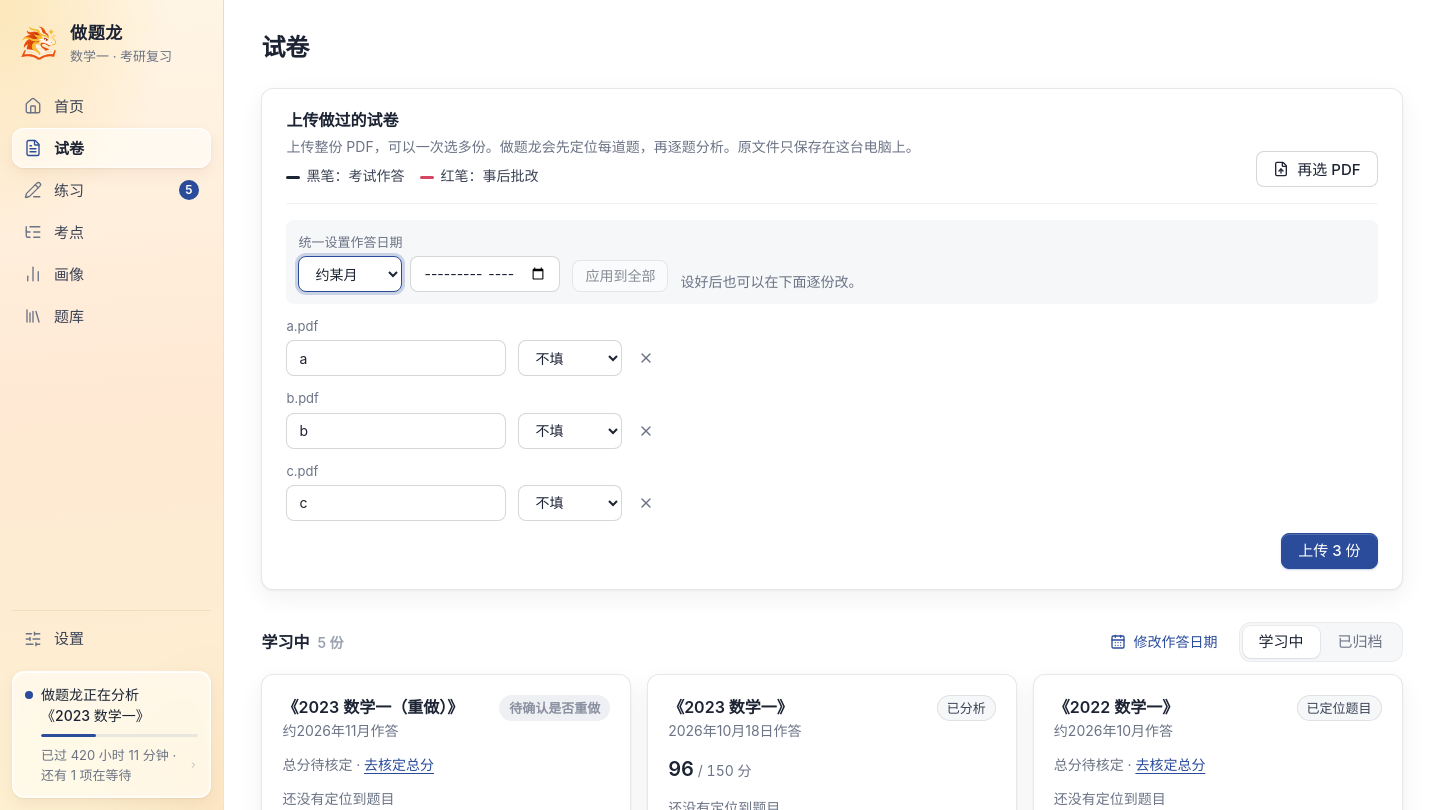
Test: lets a batch share one date, then changes a single paper before uploading
The width and height of the screenshot is (1440, 810).
Earlier steps of the test are not shown.
Type "2026-09" into the field named "统一设置作答日期：大约哪个月" at (485, 274), box [410,256,560,292]
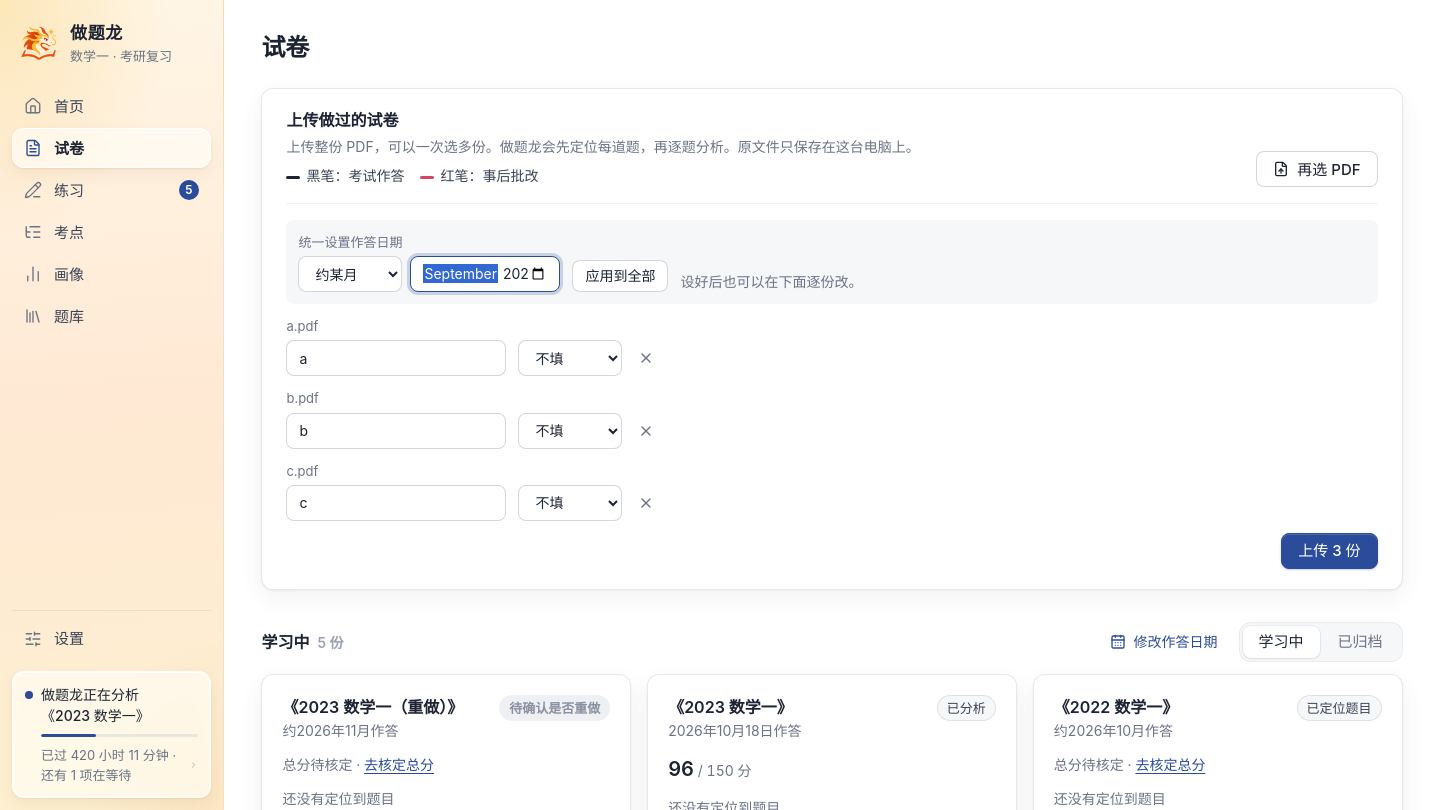
Click the button "应用到全部" at (620, 276), box [572,260,668,292]
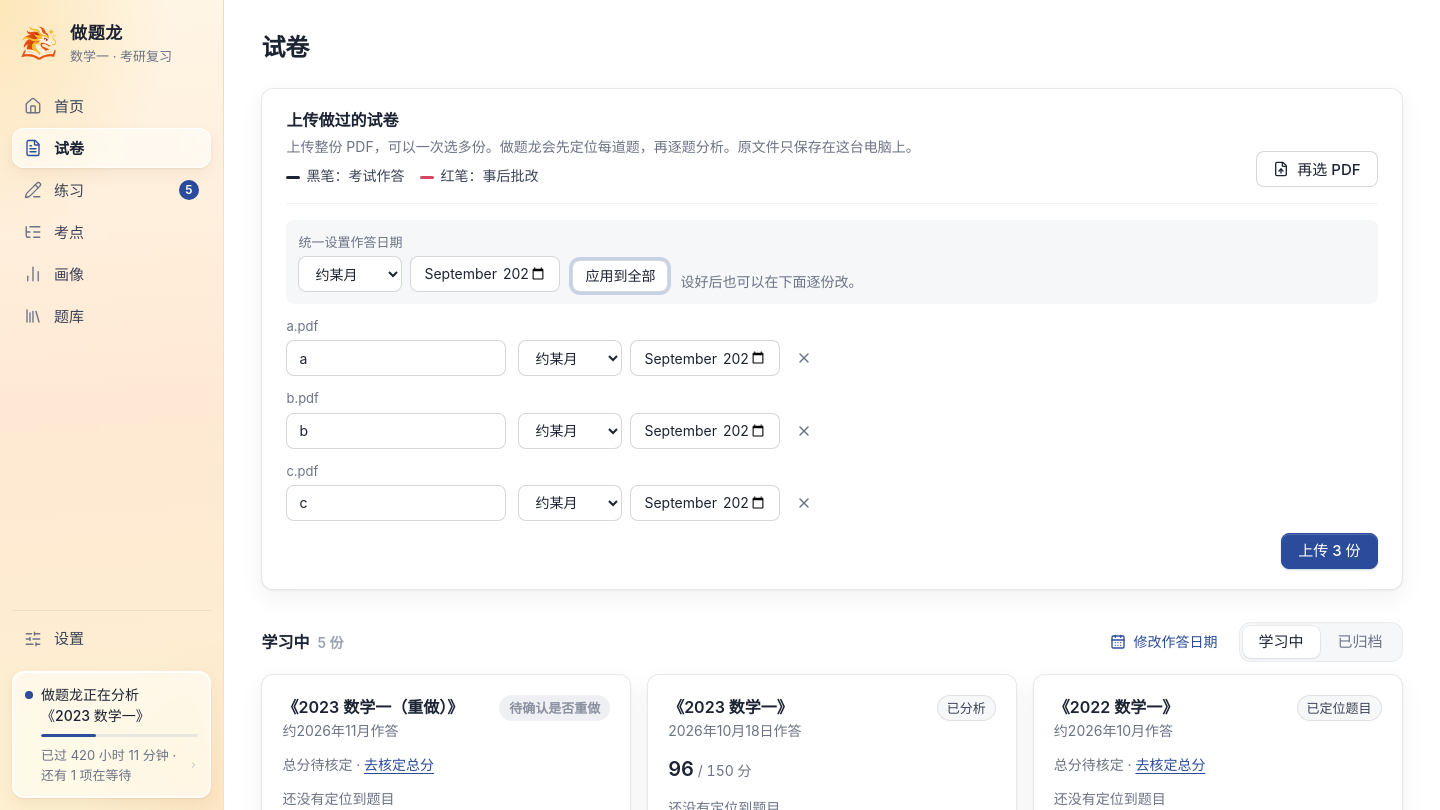
Select "记不清" in the dropdown named "b.pdf 的作答日期" below "b.pdf" at (570, 431), box [518,413,622,449]
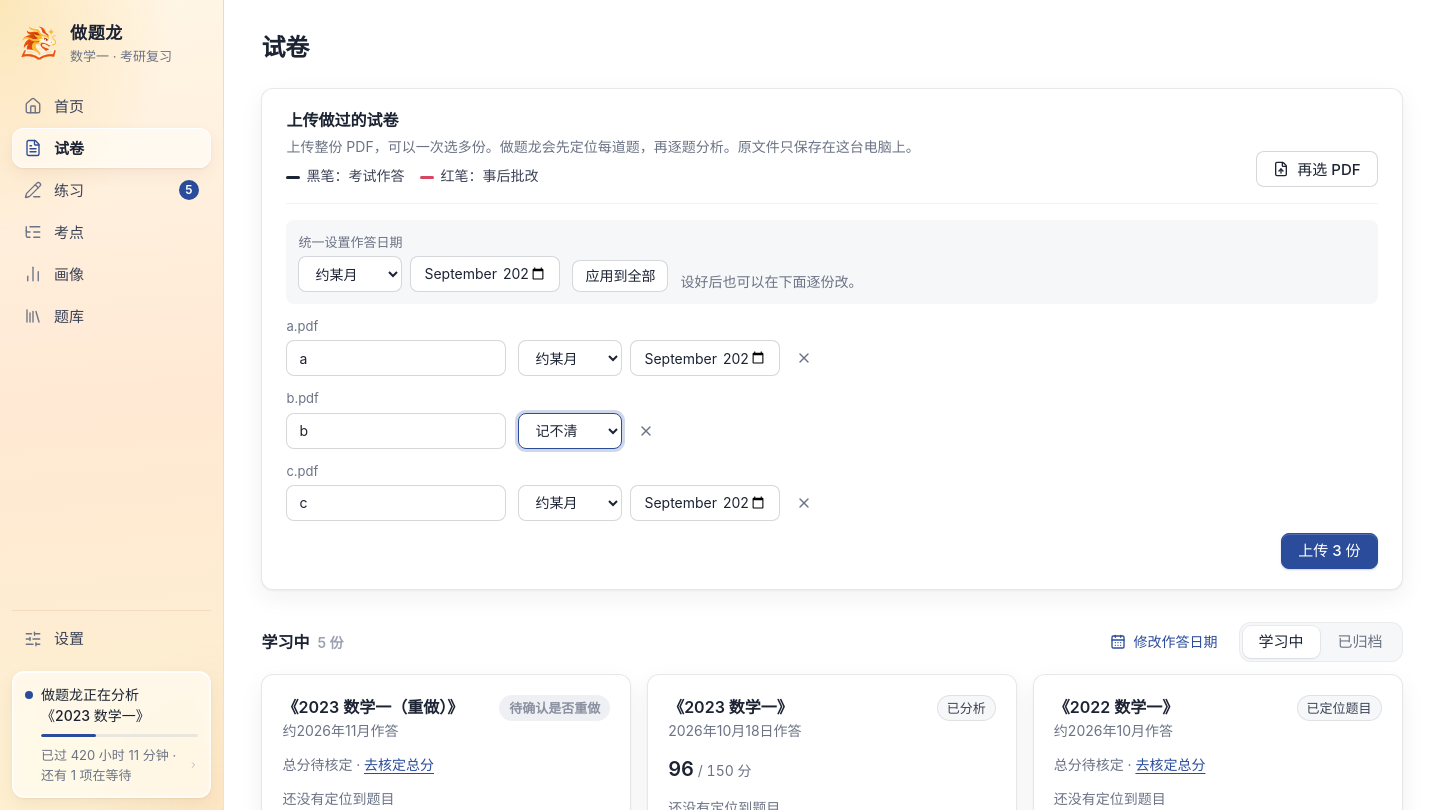
Select "具体日期" in the dropdown named "c.pdf 的作答日期" below "c.pdf" at (570, 503), box [518,485,622,521]
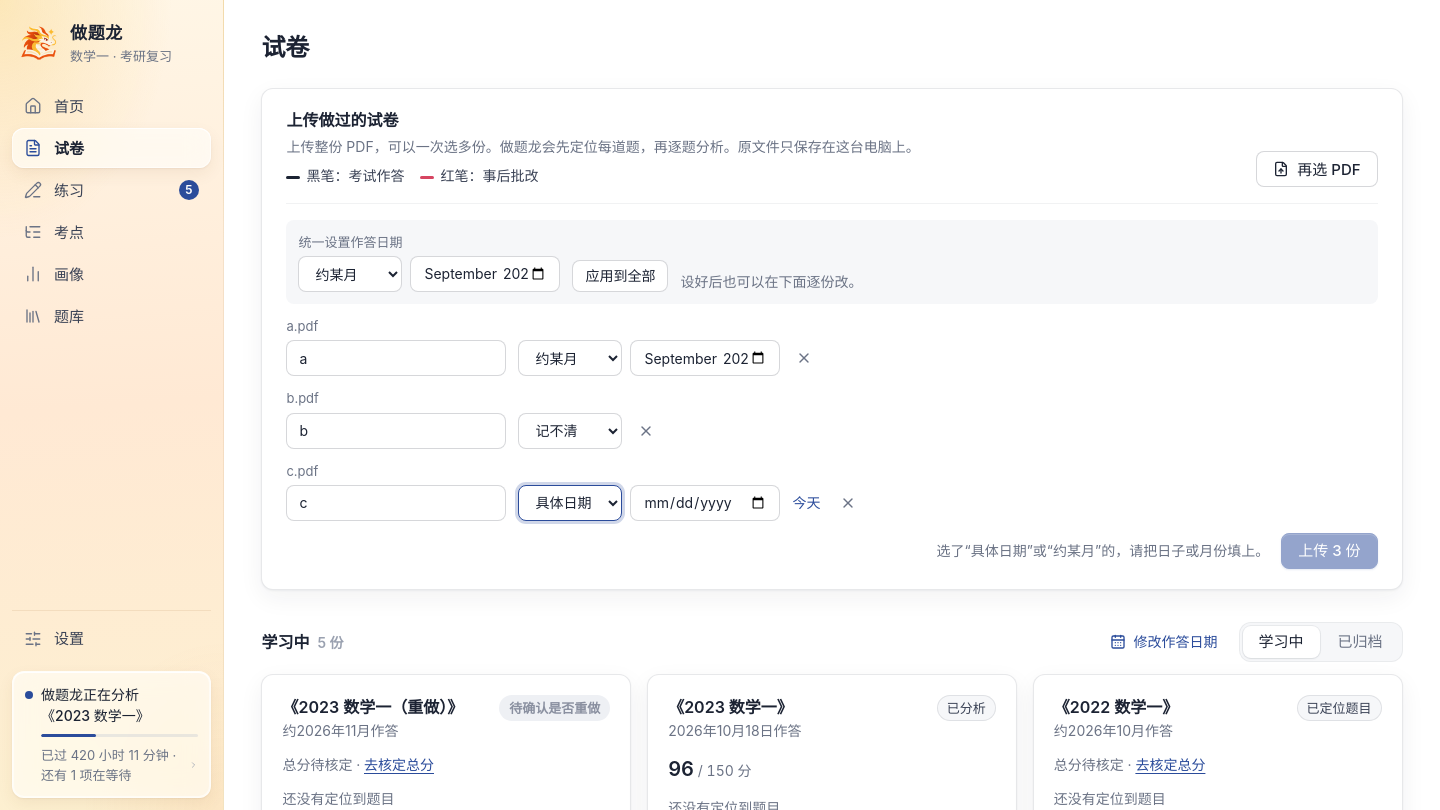
Result: the button "上传 3 份" is disabled at [1281,533,1378,569]
Click the button "今天" at (806, 503), box [788,492,824,514]
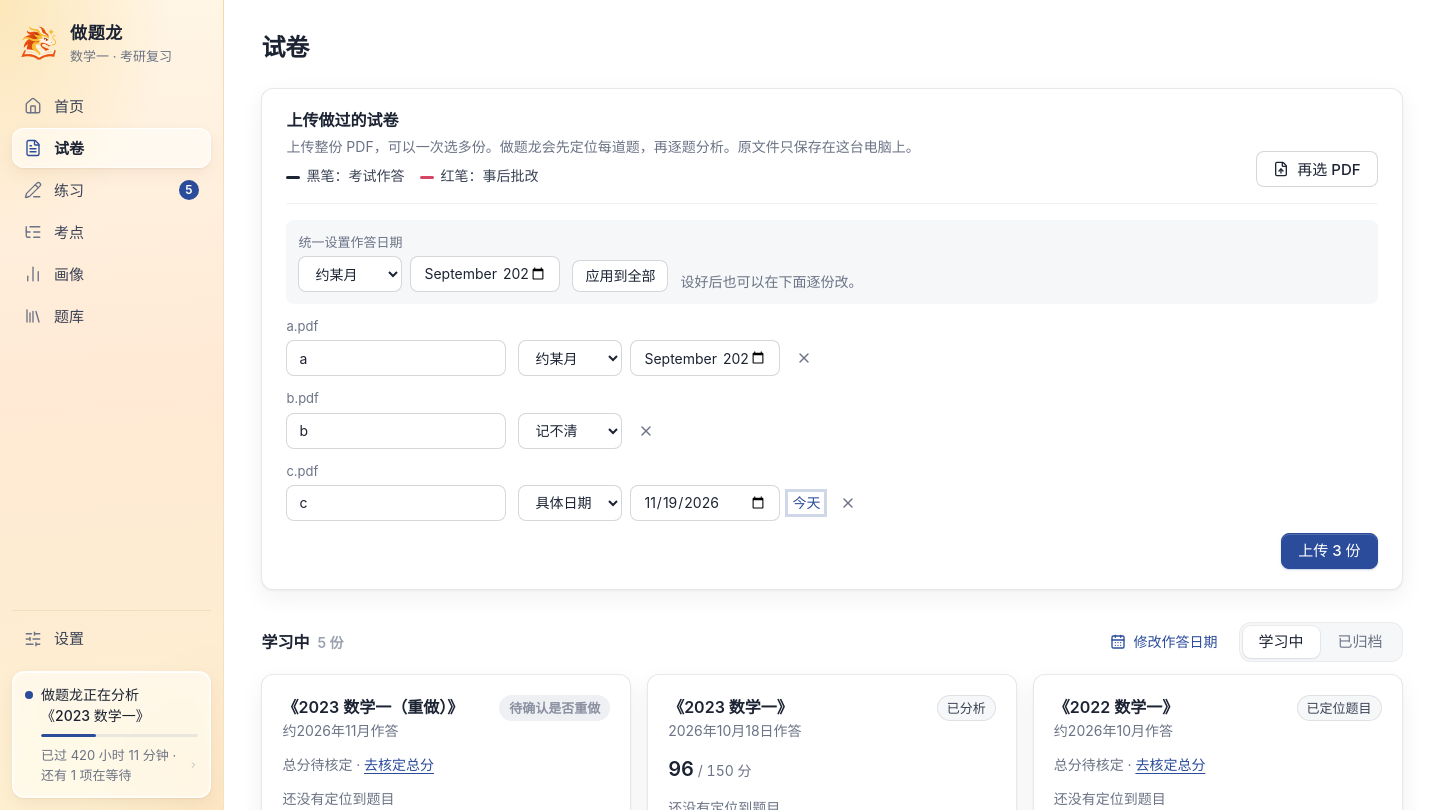
Click the button "上传 3 份" at (1329, 551), box [1281,533,1378,569]
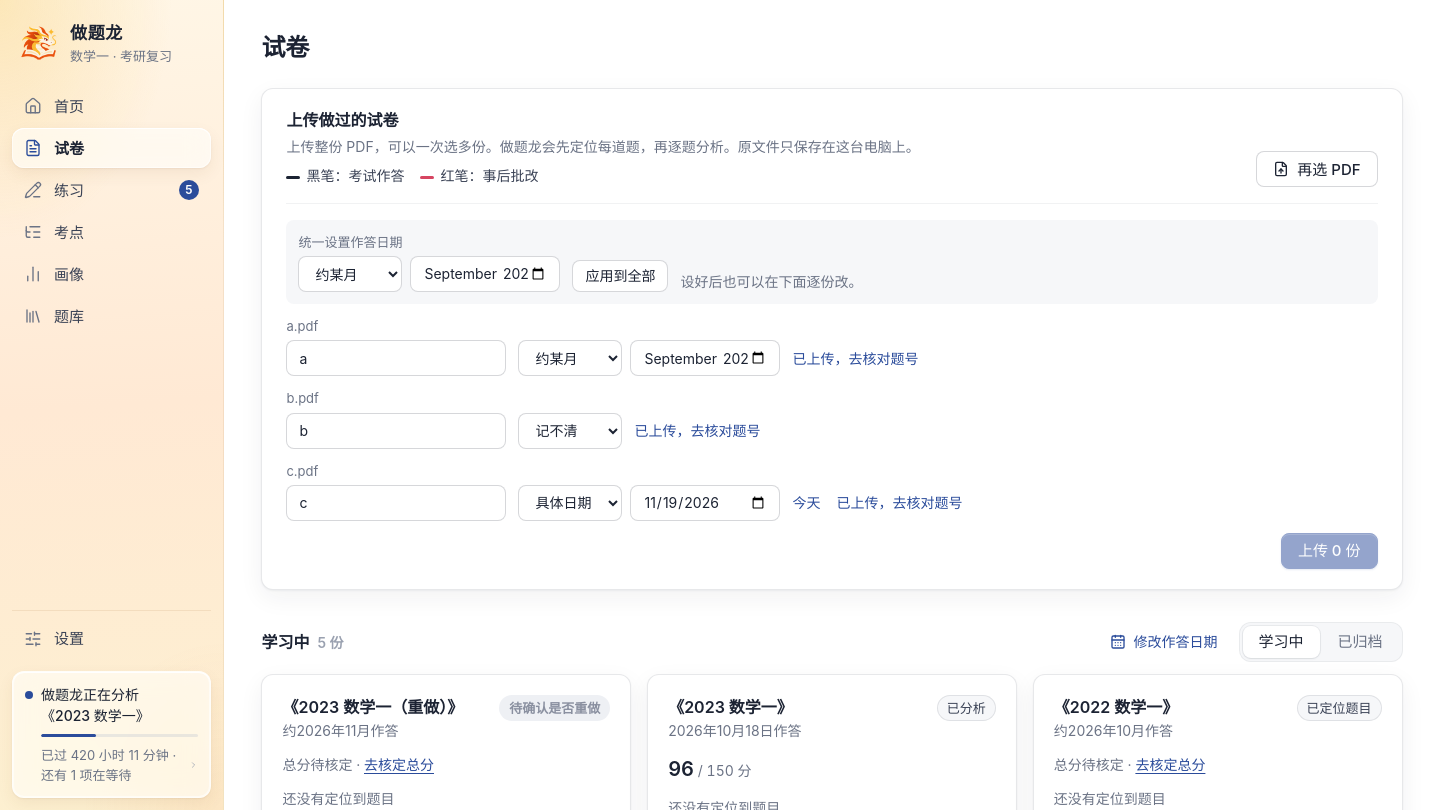
Result: the number of links "已上传，去核对题号" is 3 at [792,348,918,369]; [634,420,760,441]; [836,492,962,514]
